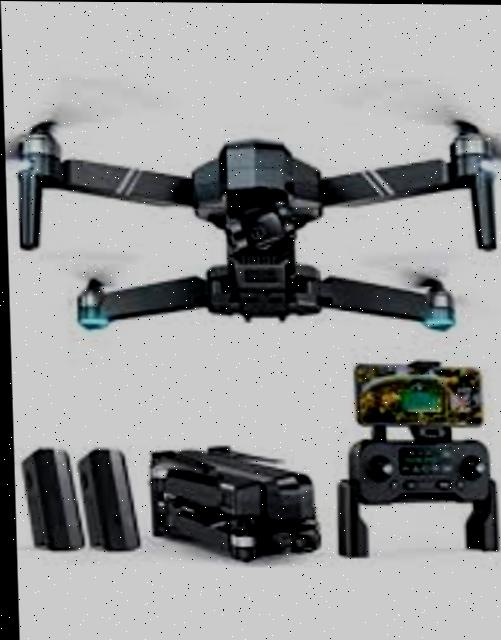drone: (2, 85, 501, 339)
